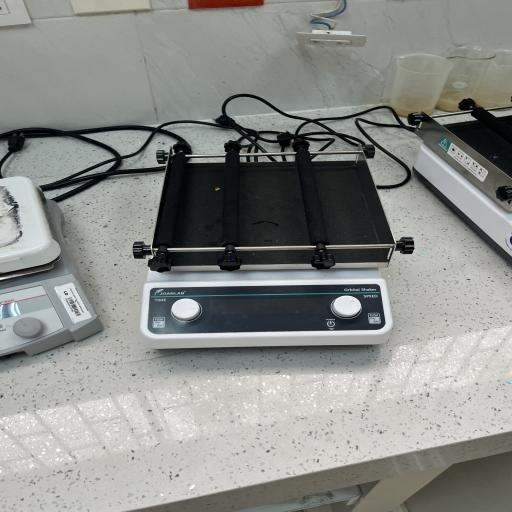Agitador_Orbital_DLAB: (123, 130, 425, 363)
